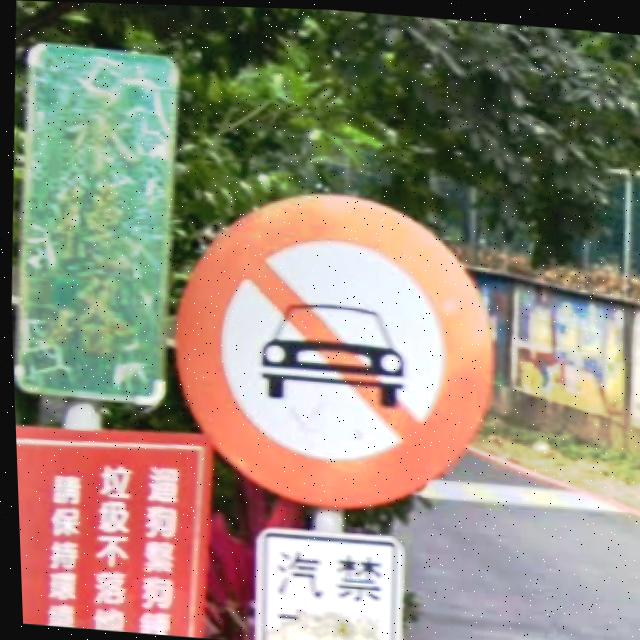nocar: (173, 192, 493, 509)
